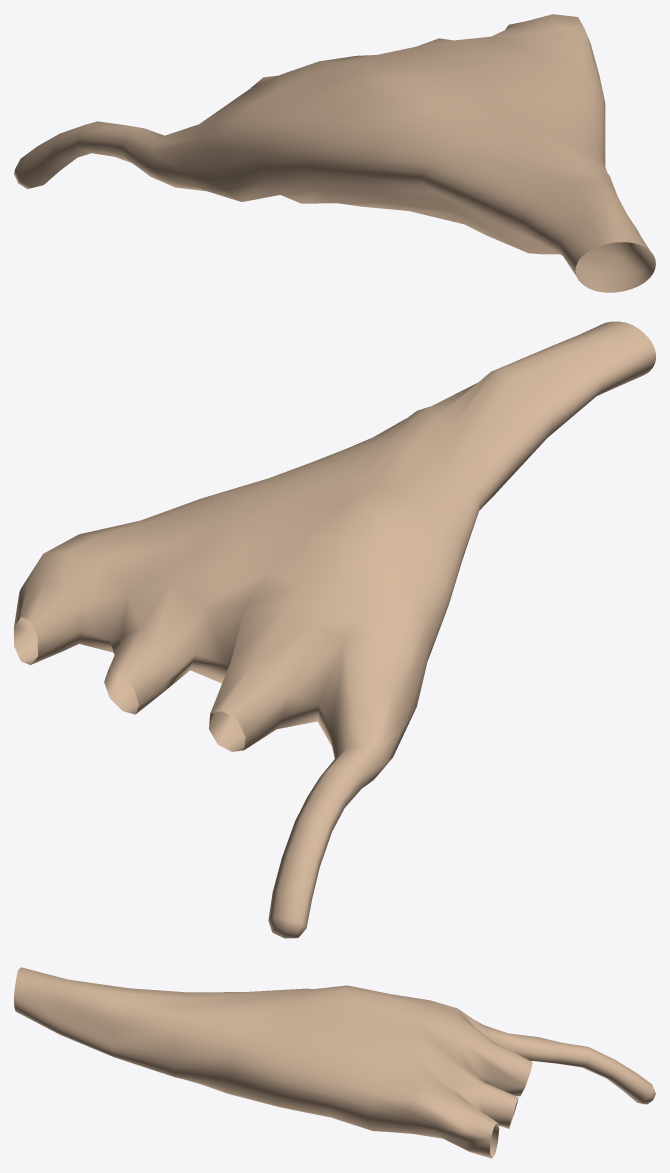
3 renders of one model, top to bottom at view 1: azimuth 30°, elevation 25°; view 2: azimuth 150°, elevation 25°; view 3: azimuth 270°, elevation 25°, orthographic. The views are drawn at different scales.
Parts seen in each view (by area): view 1: 左侧屈肌总腱鞘; view 2: 左侧屈肌总腱鞘; view 3: 左侧屈肌总腱鞘.
Part boxes in pixels (x1=…): 左侧屈肌总腱鞘: x1=14, y1=14, x2=655, y2=292; 左侧屈肌总腱鞘: x1=14, y1=321, x2=655, y2=938; 左侧屈肌总腱鞘: x1=14, y1=967, x2=655, y2=1158.
Bounding box in the file's own units: 0.0917 × 0.0529 × 0.179.
